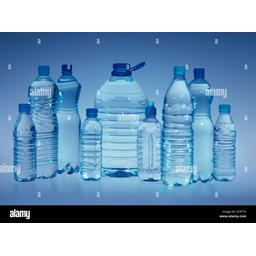plastic: (92, 61, 149, 185), (75, 105, 115, 189), (6, 103, 50, 178)
